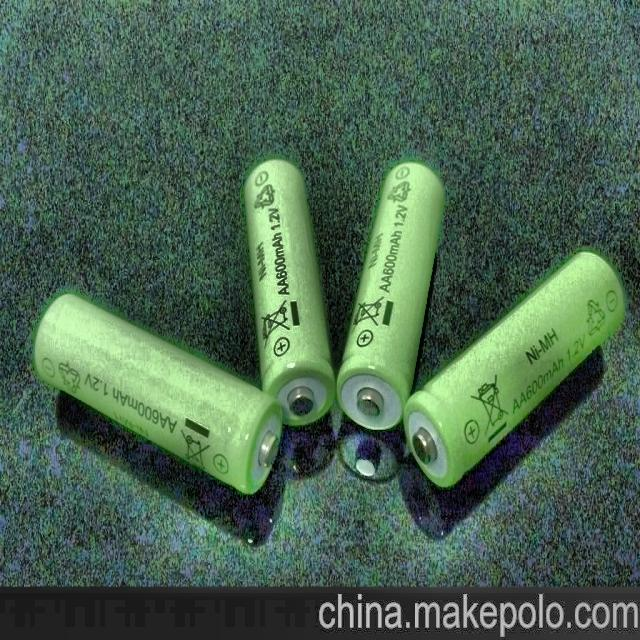Non-Valuable Waste - Batteries: (404, 252, 624, 487), (35, 295, 282, 492), (336, 162, 442, 429), (245, 158, 335, 424)
